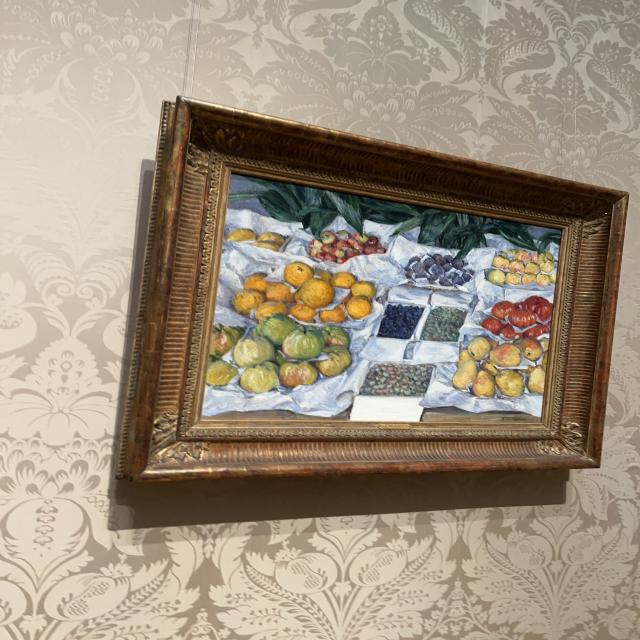fruits: (203, 176, 558, 420)
